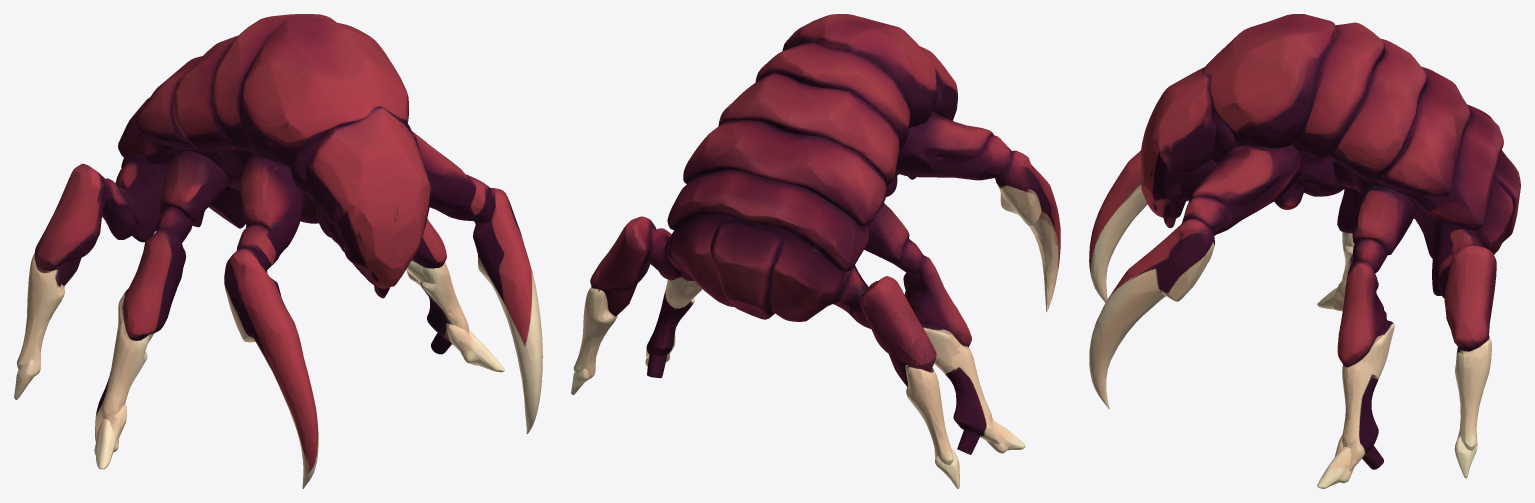
File: retroanime_enemy.glb
3 views of the same model, side by side, from view 1: azimuth 30°, elevation 25°; view 2: azimuth 150°, elevation 25°; view 3: azimuth 270°, elevation 25° (orthographic). The views are drawn at different scales.
Bounding box in the file's own units: 1.9 × 1.73 × 1.82.
1 material, 1 textured.
